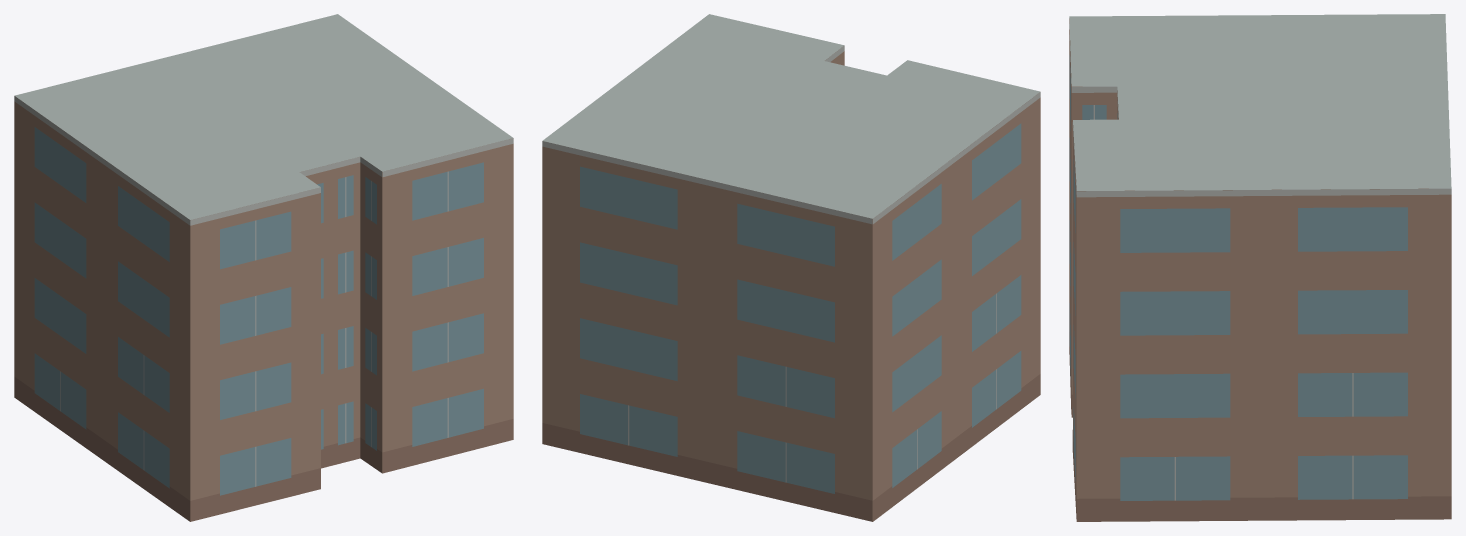
File: survey-upis-32861151.glb
The picture shows the model from 3 angles, left to right: view 1: azimuth 30°, elevation 25°; view 2: azimuth 150°, elevation 25°; view 3: azimuth 270°, elevation 25°; orthographic projection. The views are drawn at different scales.
Parts seen in each view (by area): view 1: survey-upis-32861151.tmp; view 2: survey-upis-32861151.tmp; view 3: survey-upis-32861151.tmp.
Boxes of the visible parts, x1,y1,x2,y2 form: survey-upis-32861151.tmp: (14, 14, 513, 521); survey-upis-32861151.tmp: (542, 14, 1040, 521); survey-upis-32861151.tmp: (1069, 14, 1451, 521).
Size of the model in its own units: 15.03 by 13.08 by 13.71.
